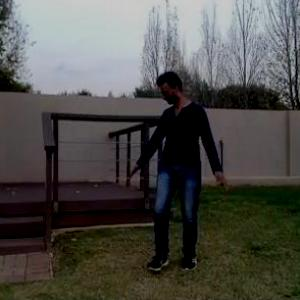land: (111, 60, 237, 287)
